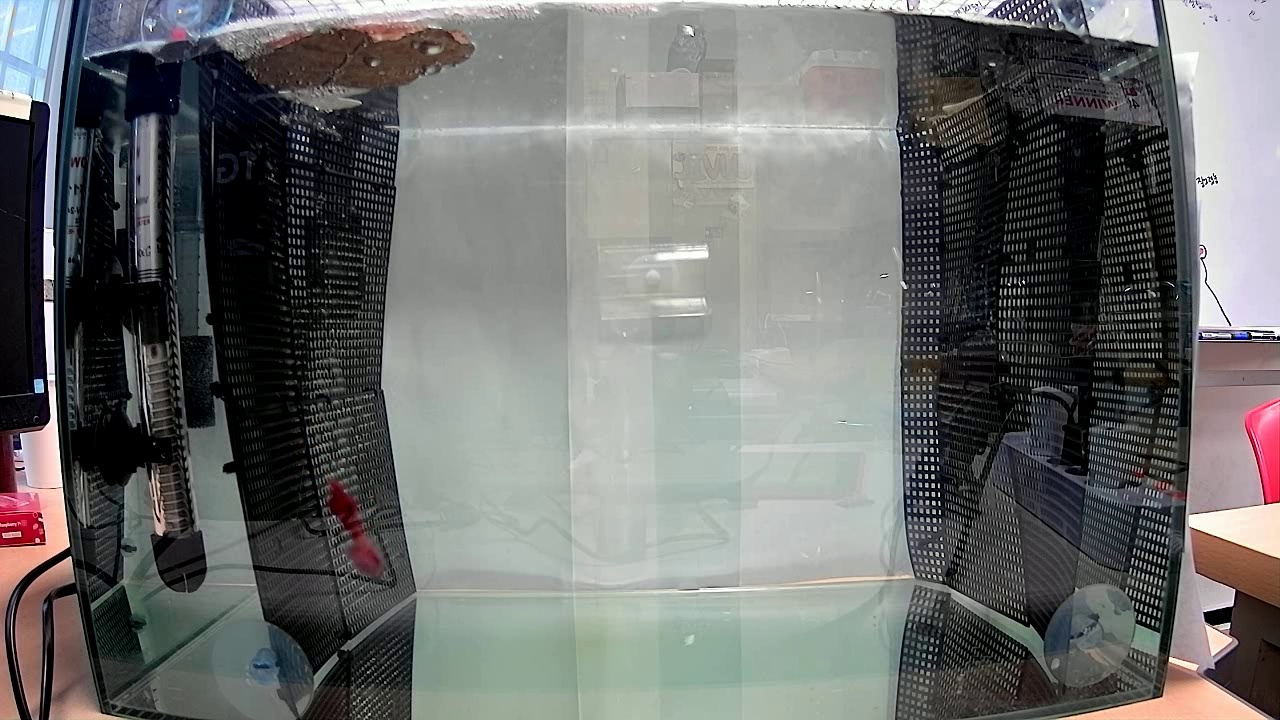fish: (318, 473, 396, 587)
